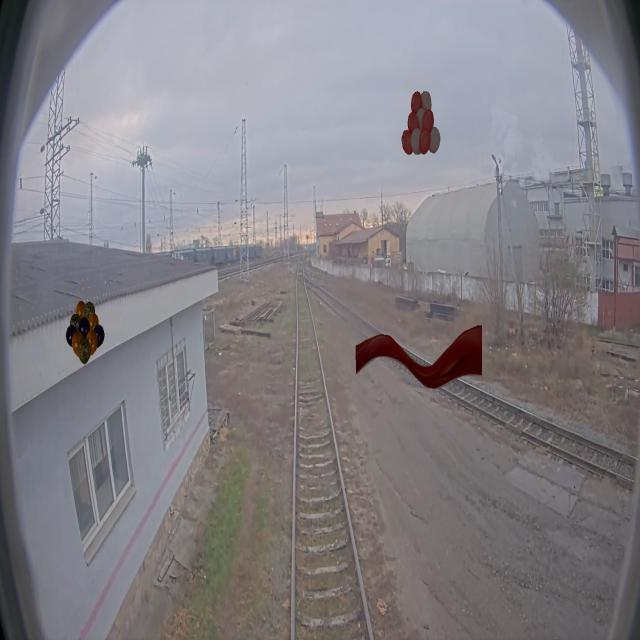balloon: (65, 300, 105, 364), (402, 90, 440, 154)
floating object: (356, 324, 482, 388)
